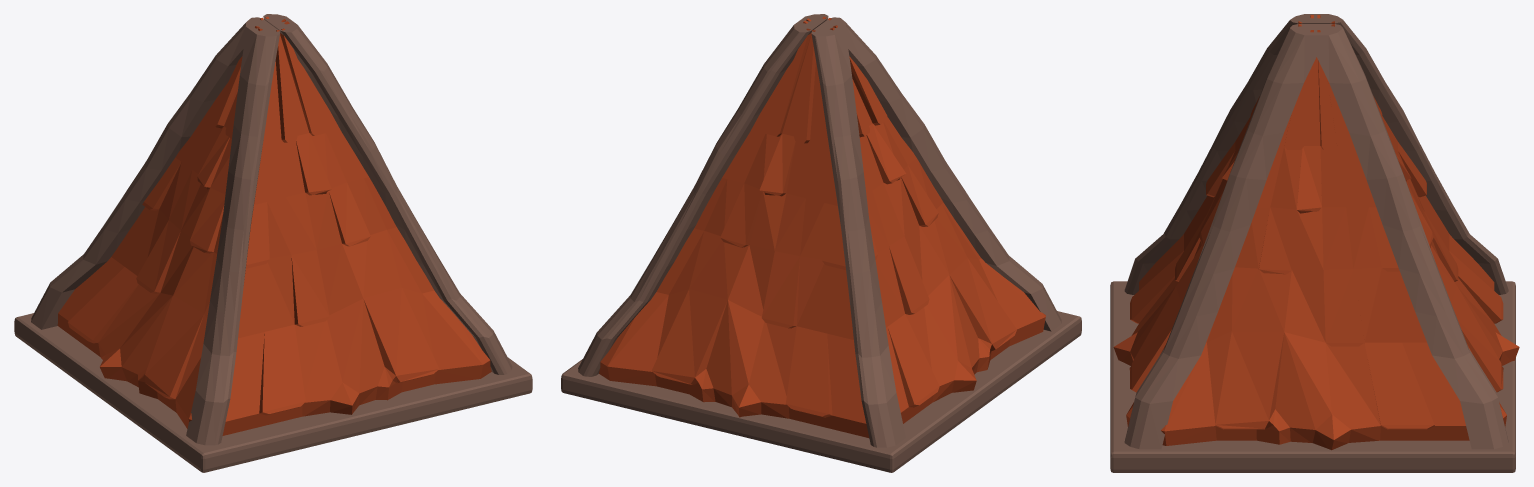
Rendered from SM_roof_pyramid_framed_01.fbx.
3 renders of one model, left to right at view 1: azimuth 30°, elevation 25°; view 2: azimuth 150°, elevation 25°; view 3: azimuth 270°, elevation 25°, orthographic. The views are drawn at different scales.
Parts seen in each view (by area): view 1: roof_pyramid_framed_01; view 2: roof_pyramid_framed_01; view 3: roof_pyramid_framed_01.
Part boxes in pixels (x1,y1,x2,y2): roof_pyramid_framed_01: [14, 14, 532, 472]; roof_pyramid_framed_01: [561, 14, 1081, 472]; roof_pyramid_framed_01: [1110, 14, 1519, 472].
Bounding box in the file's own units: 351 × 345 × 350.
